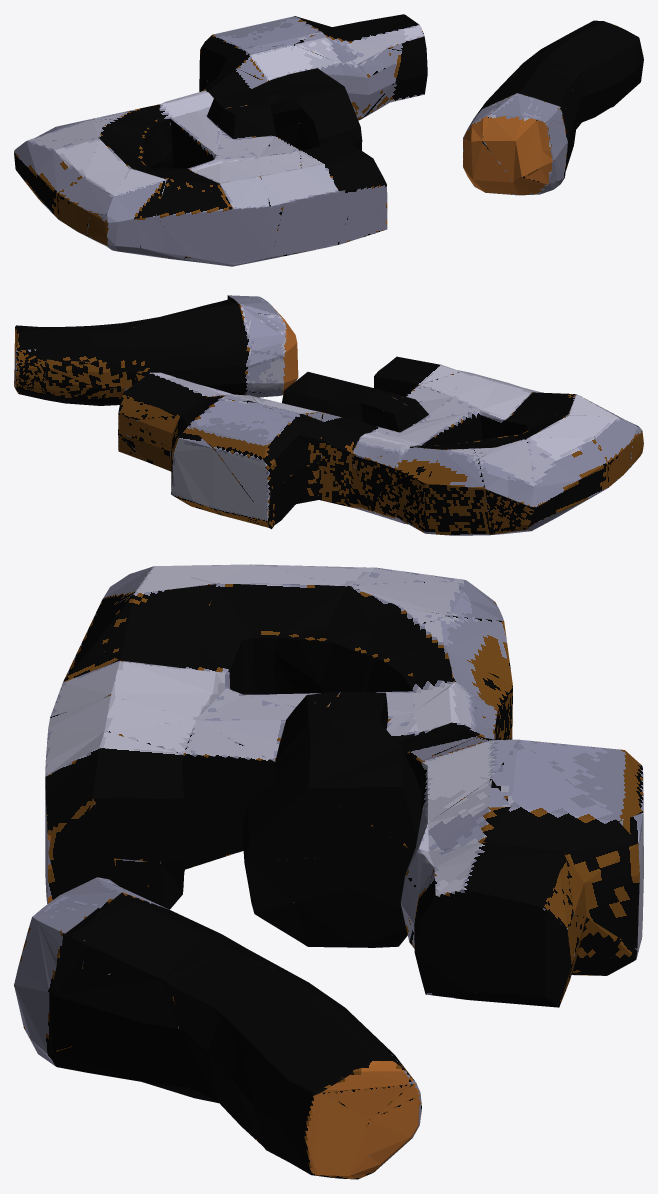
The picture shows the model from 3 angles, top to bottom: view 1: azimuth 30°, elevation 25°; view 2: azimuth 150°, elevation 25°; view 3: azimuth 270°, elevation 25°; orthographic projection. The views are drawn at different scales.
Parts seen in each view (by area): view 1: OBJ0c8; view 2: OBJ0c8; view 3: OBJ0c8.
Boxes of the visible parts, x1,y1,x2,y2 form: OBJ0c8: (14,14,643,266); OBJ0c8: (14,295,643,535); OBJ0c8: (14,564,643,1179).
Size of the model in its own units: 0.3227 by 0.0531 by 0.1635.
1 material, 1 textured.
